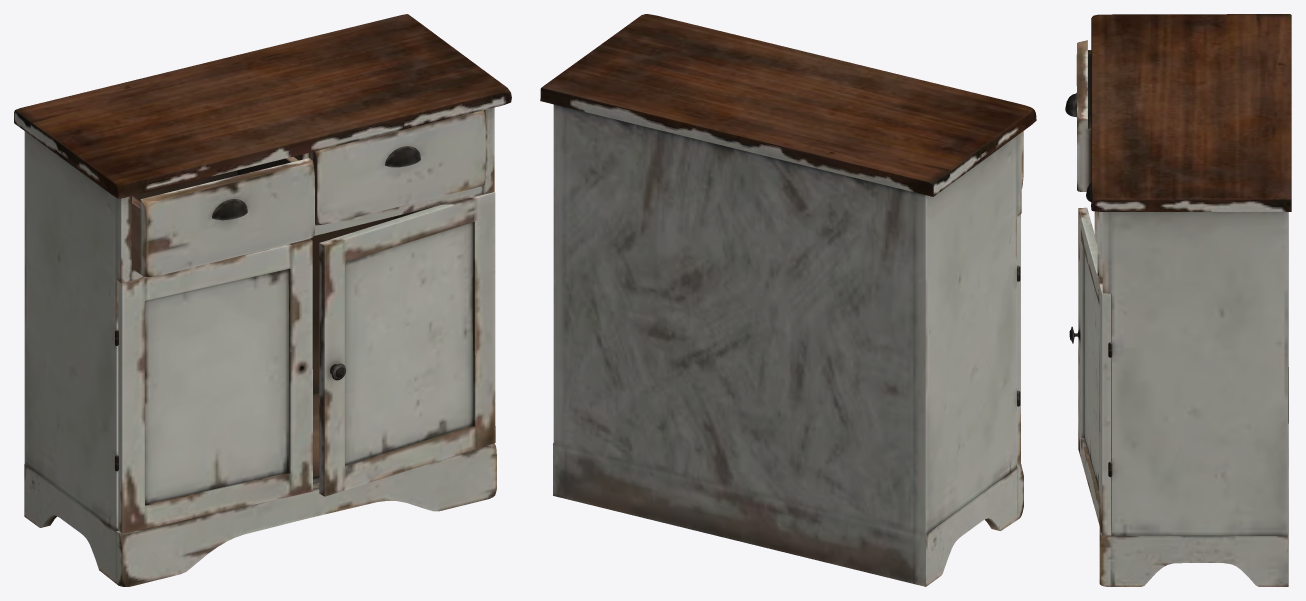
Rendered from painted_wooden_cabinet.glb.
The picture shows the model from 3 angles, left to right: view 1: azimuth 30°, elevation 25°; view 2: azimuth 150°, elevation 25°; view 3: azimuth 270°, elevation 25°; orthographic projection. The views are drawn at different scales.
Parts seen in each view (by area): view 1: painted_wooden_cabinet, painted_wooden_cabinet_door_01, painted_wooden_cabinet_door_02, painted_wooden_cabinet_drawer_01, painted_wooden_cabinet_drawer_02; view 2: painted_wooden_cabinet, painted_wooden_cabinet_door_01; view 3: painted_wooden_cabinet, painted_wooden_cabinet_door_02, painted_wooden_cabinet_drawer_01, painted_wooden_cabinet_drawer_02.
Part boxes in pixels (bbox=[...]): painted_wooden_cabinet: bbox=[14, 14, 511, 586]; painted_wooden_cabinet_door_01: bbox=[118, 238, 312, 533]; painted_wooden_cabinet_door_02: bbox=[319, 192, 495, 496]; painted_wooden_cabinet_drawer_01: bbox=[132, 156, 314, 277]; painted_wooden_cabinet_drawer_02: bbox=[313, 110, 485, 224]; painted_wooden_cabinet: bbox=[540, 14, 1036, 586]; painted_wooden_cabinet_door_01: bbox=[1017, 214, 1020, 465]; painted_wooden_cabinet: bbox=[1091, 14, 1291, 586]; painted_wooden_cabinet_door_02: bbox=[1069, 207, 1110, 535]; painted_wooden_cabinet_drawer_01: bbox=[1065, 40, 1091, 191]; painted_wooden_cabinet_drawer_02: bbox=[1086, 183, 1102, 277].
Bounding box in the file's own units: 1.19 × 1.18 × 0.6166.
Materials: 1 (1 with a texture image).
